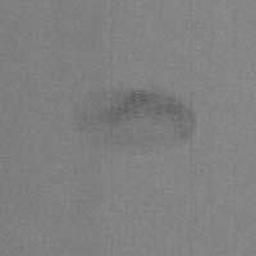Oil spot: (70, 81, 201, 159)
